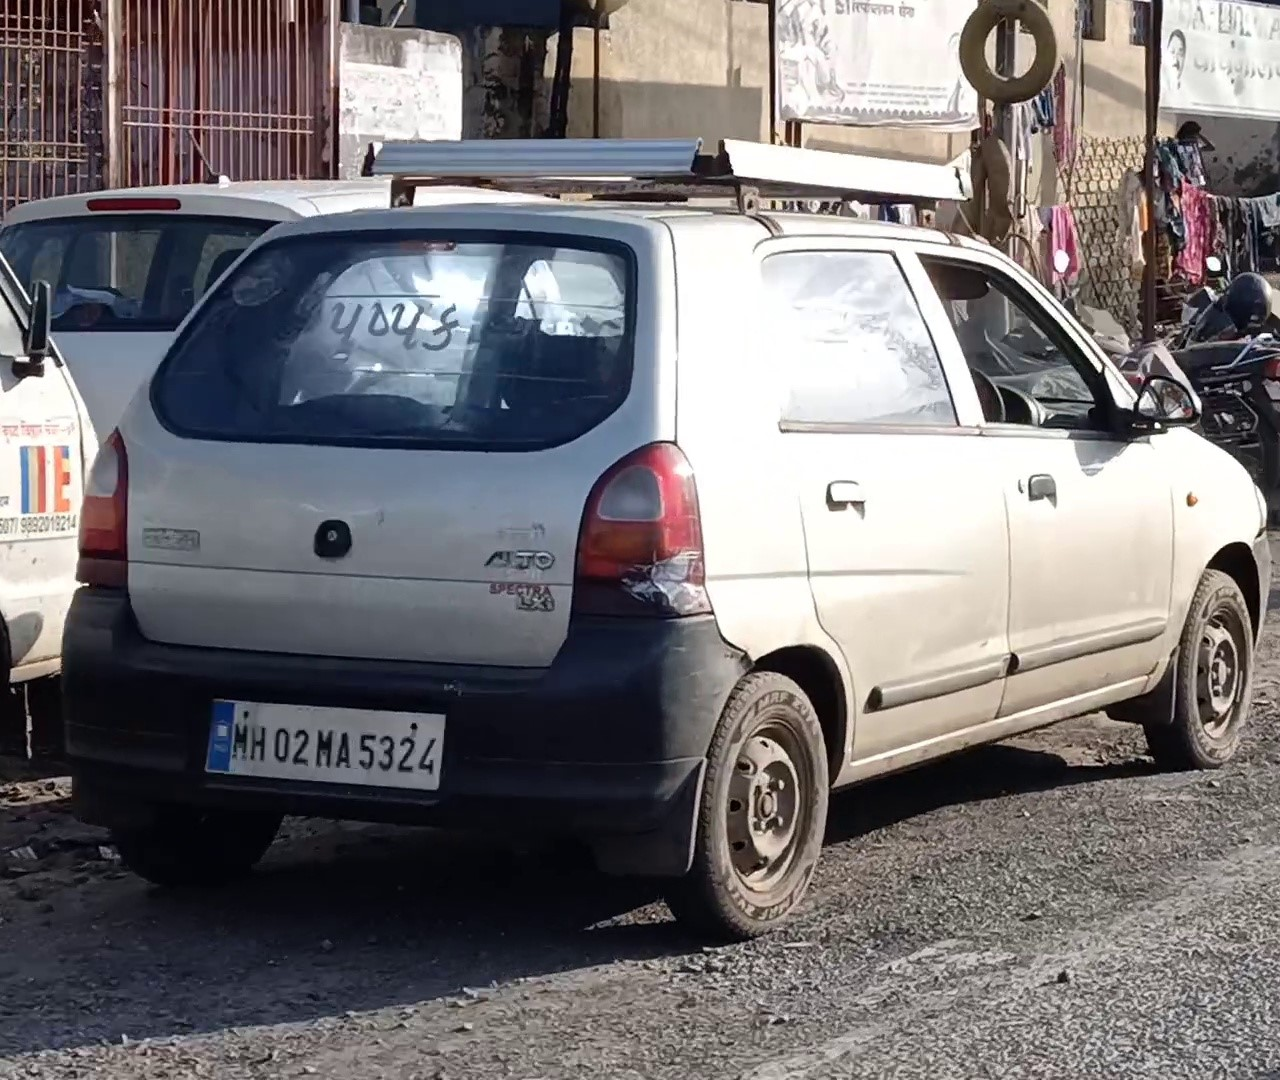MH02MA5324: (206, 698, 443, 792)
